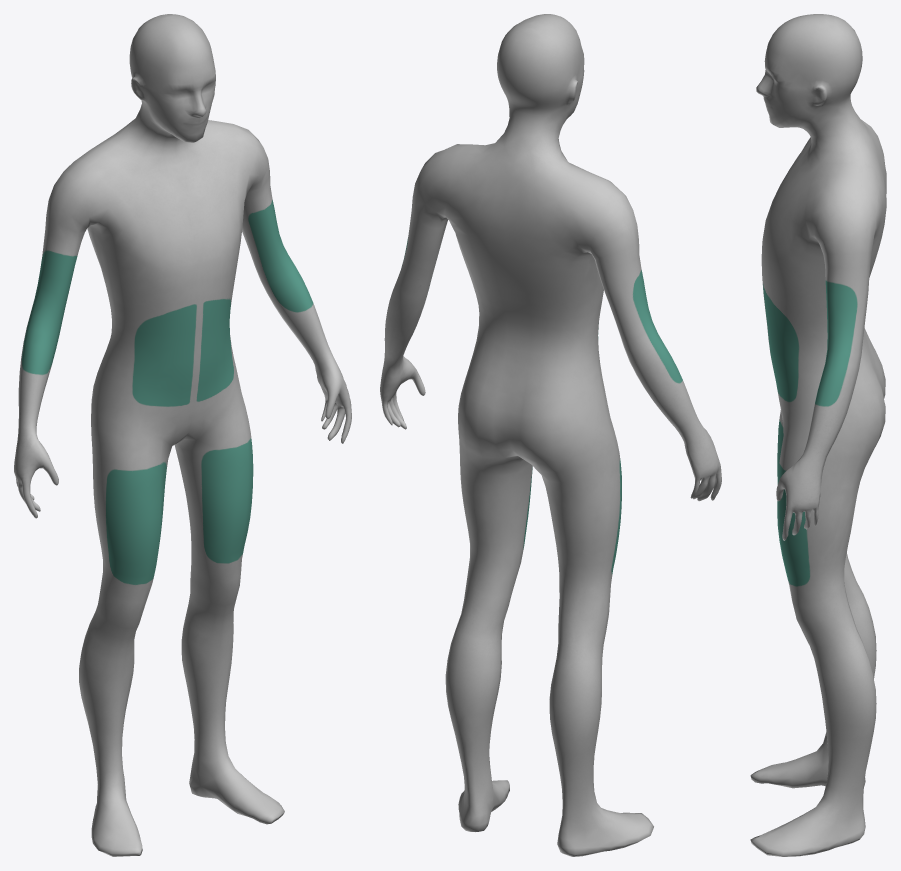
File: human.obj
3 views of the same model, side by side, from view 1: azimuth 30°, elevation 25°; view 2: azimuth 150°, elevation 25°; view 3: azimuth 270°, elevation 25° (orthographic).
Visible parts, largest first — view 1: Mesh; view 2: Mesh; view 3: Mesh.
Boxes of the visible parts, x1,y1,x2,y2 form: Mesh: (14,14,351,856); Mesh: (380,14,721,856); Mesh: (750,14,886,856).
Bounding box in the file's own units: 0.8038 × 1.86 × 0.2879.
Materials: 1 (1 with a texture image).
